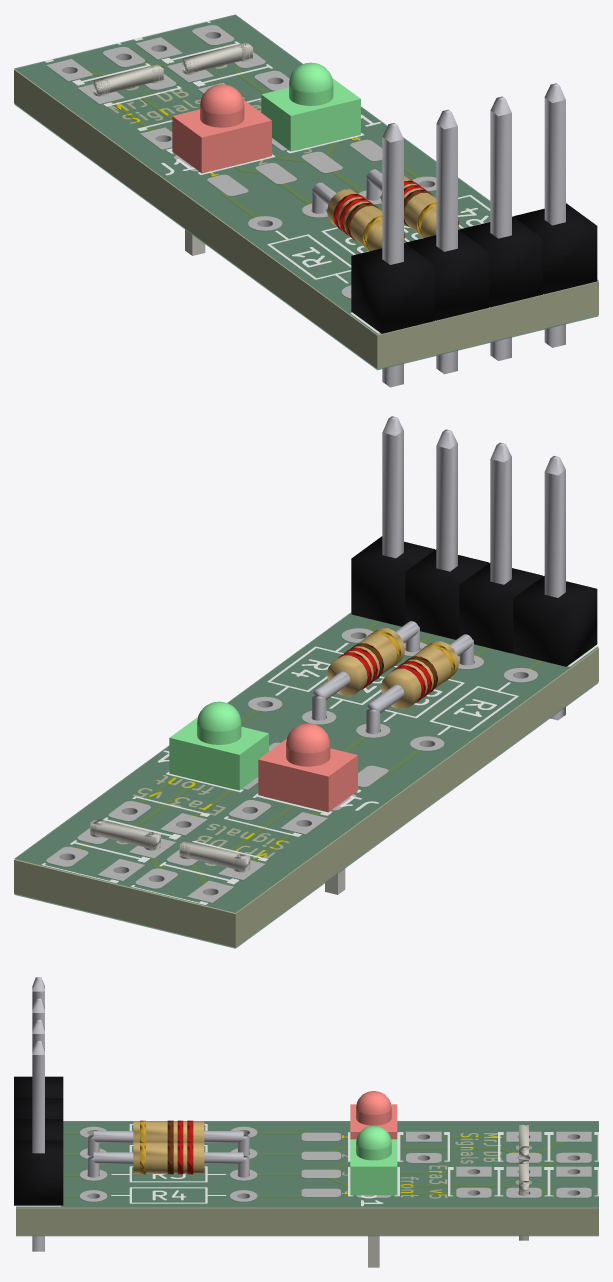
Rendered from MrJ-DB-Era3-breadboard-bloc.glb.
The picture shows the model from 3 angles, top to bottom: view 1: azimuth 30°, elevation 25°; view 2: azimuth 150°, elevation 25°; view 3: azimuth 270°, elevation 25°; orthographic projection. The views are drawn at different scales.
Parts seen in each view (by area): view 1: =>[0:1:1:17], =>[0:1:1:3] (×4), =>[0:1:1:15], =>[0:1:1:13], =>[0:1:1:11], =>[0:1:1:5], =>[0:1:1:9] (×2), =>[0:1:1:14], =>[0:1:1:7] (×2), =>[0:1:1:12], =>[0:1:1:16]; view 2: =>[0:1:1:17], =>[0:1:1:15], =>[0:1:1:3] (×4), =>[0:1:1:13], =>[0:1:1:9] (×2), =>[0:1:1:11], =>[0:1:1:5], =>[0:1:1:14], =>[0:1:1:7] (×2), =>[0:1:1:12], =>[0:1:1:16]; view 3: =>[0:1:1:17], =>[0:1:1:15], =>[0:1:1:3] (×4), =>[0:1:1:13], =>[0:1:1:9] (×2), =>[0:1:1:5], =>[0:1:1:14], =>[0:1:1:11], =>[0:1:1:12], =>[0:1:1:16], =>[0:1:1:7].
Part boxes in pixels (x1,y1,x2,y2): =>[0:1:1:17]: (14, 16, 598, 369); =>[0:1:1:3] (×4): (351, 83, 597, 387); =>[0:1:1:15]: (14, 14, 598, 334); =>[0:1:1:13]: (46, 25, 436, 298); =>[0:1:1:11]: (172, 84, 271, 255); =>[0:1:1:5]: (261, 62, 360, 151); =>[0:1:1:9] (×2): (312, 169, 458, 250); =>[0:1:1:14]: (44, 20, 490, 333); =>[0:1:1:7] (×2): (92, 42, 252, 96); =>[0:1:1:12]: (88, 43, 420, 218); =>[0:1:1:16]: (14, 104, 598, 370); =>[0:1:1:17]: (14, 614, 598, 947); =>[0:1:1:15]: (14, 612, 598, 912); =>[0:1:1:3] (×4): (351, 416, 597, 720); =>[0:1:1:13]: (46, 628, 537, 903); =>[0:1:1:9] (×2): (312, 621, 473, 733); =>[0:1:1:11]: (258, 723, 357, 894); =>[0:1:1:5]: (169, 701, 268, 790); =>[0:1:1:14]: (41, 612, 597, 904); =>[0:1:1:7] (×2): (90, 818, 250, 872); =>[0:1:1:12]: (76, 621, 542, 884); =>[0:1:1:16]: (14, 682, 598, 948); =>[0:1:1:17]: (16, 1122, 598, 1235); =>[0:1:1:15]: (16, 1121, 598, 1207); =>[0:1:1:3] (×4): (14, 977, 63, 1251); =>[0:1:1:13]: (80, 1127, 591, 1201); =>[0:1:1:9] (×2): (87, 1120, 249, 1177); =>[0:1:1:5]: (350, 1126, 397, 1267); =>[0:1:1:14]: (16, 1124, 598, 1206); =>[0:1:1:11]: (350, 1091, 397, 1139); =>[0:1:1:12]: (64, 1132, 564, 1197); =>[0:1:1:16]: (16, 1235, 598, 1236); =>[0:1:1:7]: (519, 1160, 528, 1240).
Size of the model in its own units: 0.0104 by 0.0127 by 0.0297.
